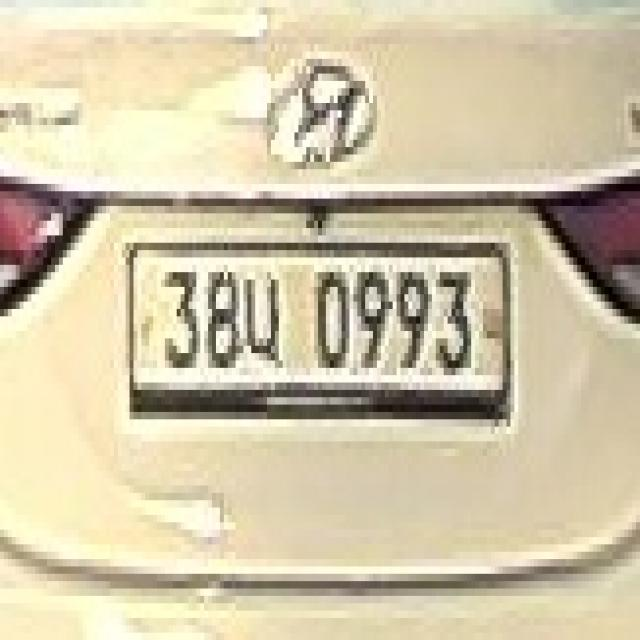0: (314, 272, 353, 375)
3: (436, 265, 471, 382), (165, 257, 200, 368)
8: (204, 265, 240, 368)
9: (396, 265, 432, 375), (357, 265, 389, 375)
license_plate: (126, 228, 514, 412)
na: (243, 272, 283, 368)
